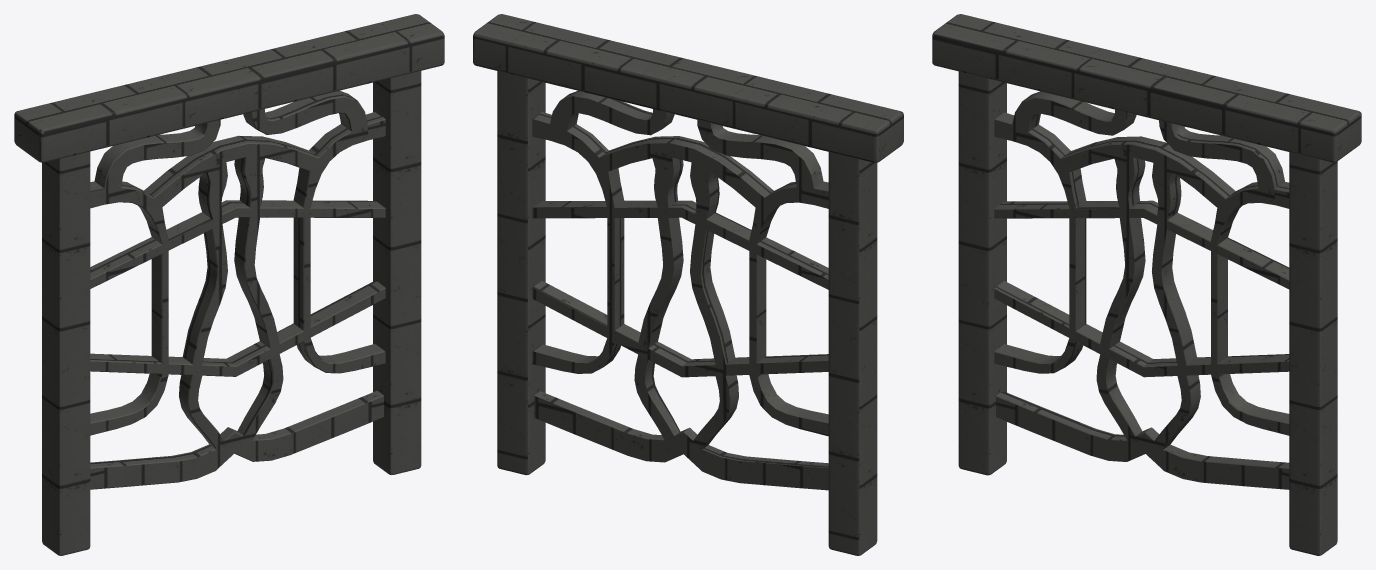
Rendered from Fence_A_UV.fbx.
3 renders of one model, left to right at view 1: azimuth 30°, elevation 25°; view 2: azimuth 150°, elevation 25°; view 3: azimuth 330°, elevation 25°, orthographic.
Parts seen in each view (by area): view 1: Fence_A; view 2: Fence_A; view 3: Fence_A.
Boxes of the visible parts, box(x1,y1,x2,y2) form: Fence_A: box(14, 14, 444, 555); Fence_A: box(473, 14, 903, 555); Fence_A: box(932, 14, 1361, 555).
Size of the model in its own units: 76.22 by 78.24 by 9.28.
